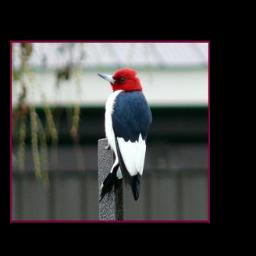Woodpecker: (96, 63, 153, 206)
